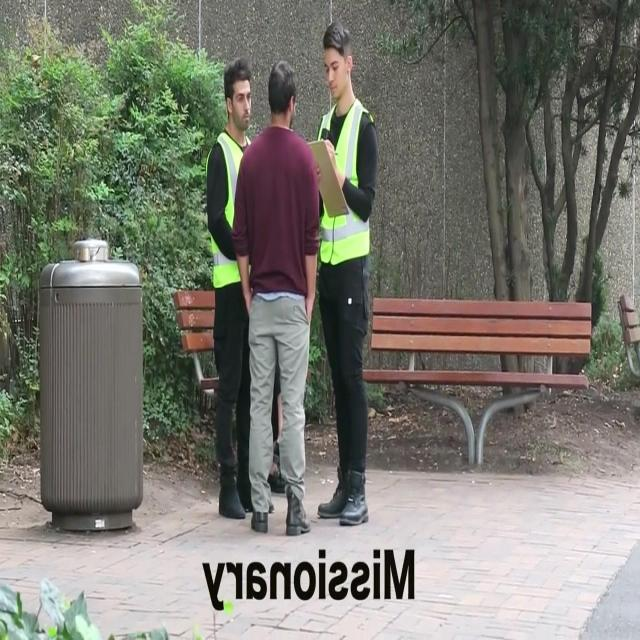Reflective-Jacket: (310, 98, 382, 274), (200, 127, 253, 298)
